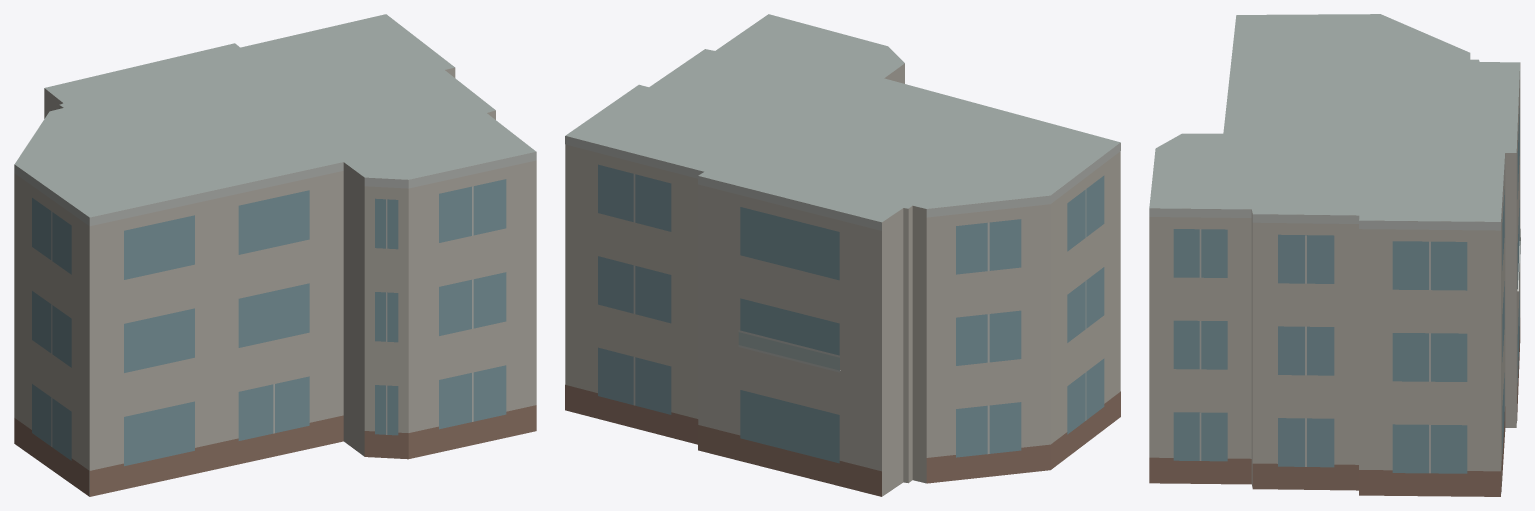
Rendered from survey-upis-32925315.glb.
The picture shows the model from 3 angles, left to right: view 1: azimuth 30°, elevation 25°; view 2: azimuth 150°, elevation 25°; view 3: azimuth 270°, elevation 25°; orthographic projection.
Visible parts, largest first — view 1: survey-upis-32925315.tmp; view 2: survey-upis-32925315.tmp; view 3: survey-upis-32925315.tmp.
Boxes of the visible parts, <box> form: survey-upis-32925315.tmp: <box>14,14,536,496</box>; survey-upis-32925315.tmp: <box>565,14,1120,496</box>; survey-upis-32925315.tmp: <box>1149,14,1520,496</box>.
Size of the model in its own units: 12.66 by 7.8 by 9.56.
